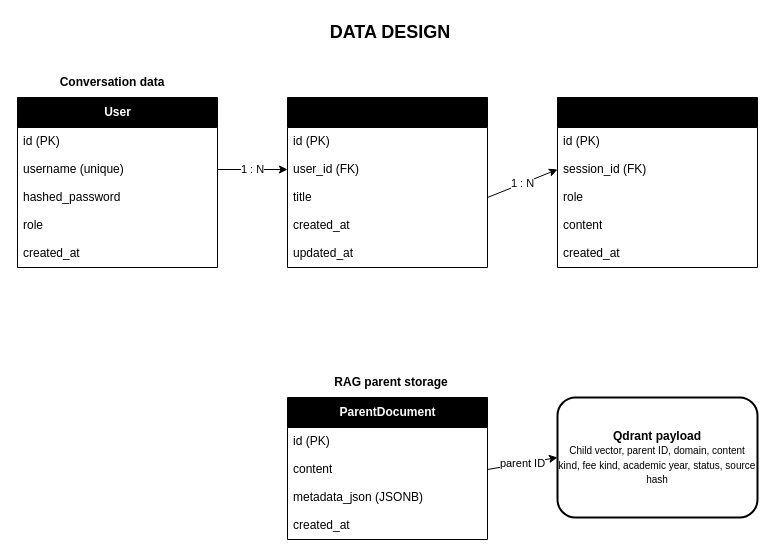
The diagram is 776 pixels wide and 557 high, and some of its shapes have lost their labels. Each missing label, with the box of its shape:
ChatMessage: (556, 96, 758, 268)
ChatSession: (286, 96, 488, 268)
